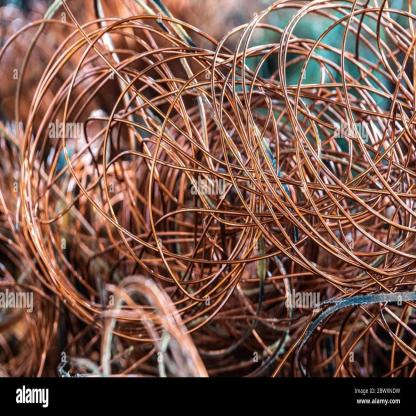wires: (1, 2, 416, 379)
